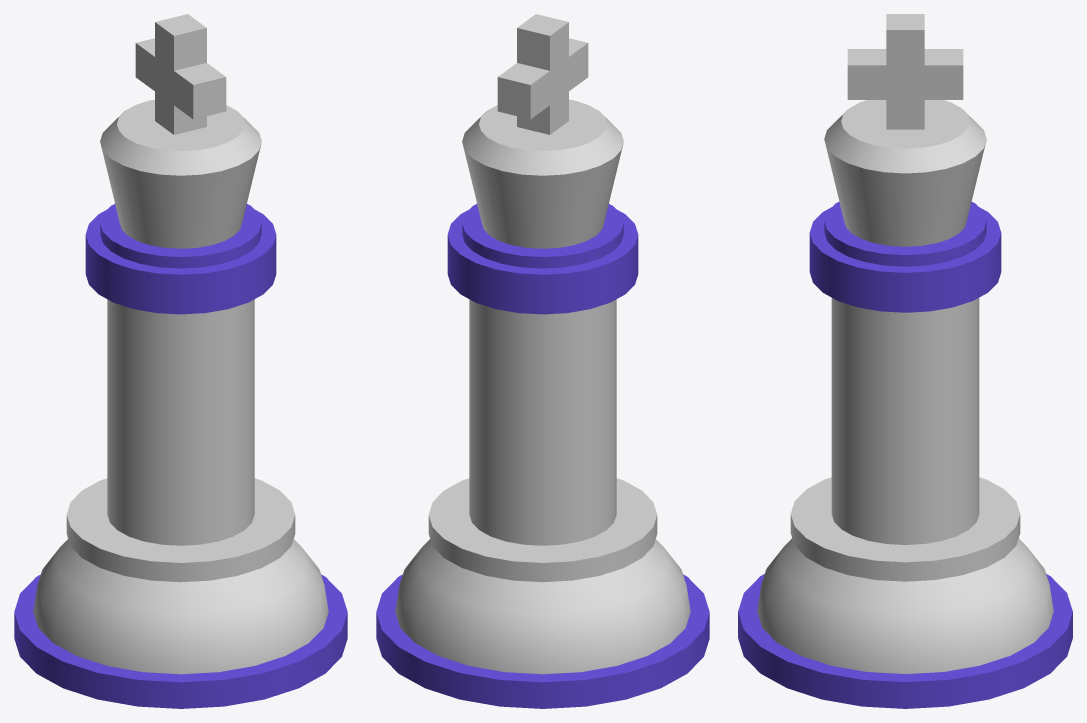
The model's file is king.fbx.
3 renders of one model, left to right at view 1: azimuth 30°, elevation 25°; view 2: azimuth 150°, elevation 25°; view 3: azimuth 270°, elevation 25°, orthographic.
Visible parts, largest first — view 1: king; view 2: king; view 3: king.
Part boxes in pixels (x1=…): king: x1=14, y1=14, x2=347, y2=708; king: x1=376, y1=14, x2=709, y2=708; king: x1=738, y1=14, x2=1072, y2=708.
Bounding box in the file's own units: 181 × 368 × 181.
